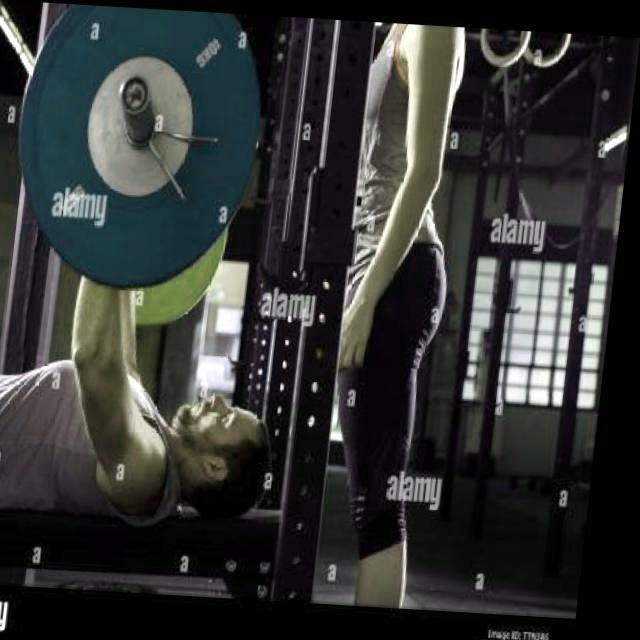barbell: (2, 2, 277, 296)
